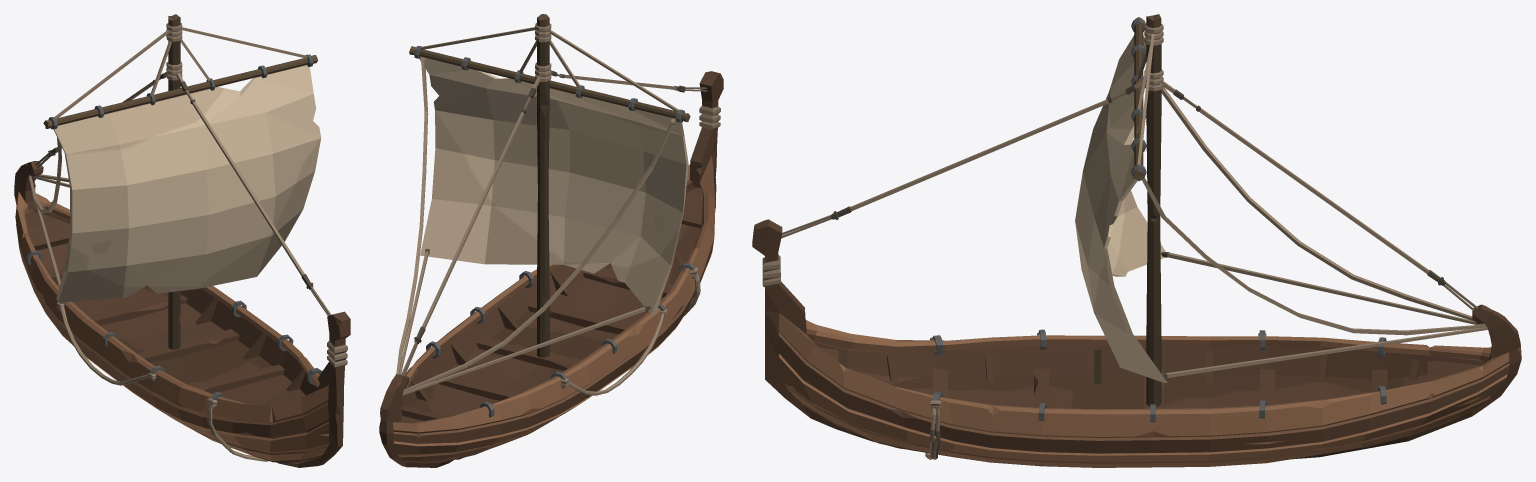
Rendered from SM_Veh_Boat_Large_01.fbx.
The picture shows the model from 3 angles, left to right: view 1: azimuth 30°, elevation 25°; view 2: azimuth 150°, elevation 25°; view 3: azimuth 270°, elevation 25°; orthographic projection. The views are drawn at different scales.
Parts seen in each view (by area): view 1: SM_Veh_Boat_Large_01; view 2: SM_Veh_Boat_Large_01; view 3: SM_Veh_Boat_Large_01.
Boxes of the visible parts, box(x1,y1,x2,y2) form: SM_Veh_Boat_Large_01: box(14, 14, 350, 467); SM_Veh_Boat_Large_01: box(379, 14, 723, 467); SM_Veh_Boat_Large_01: box(752, 14, 1521, 467).
Bounding box in the file's own units: 702 × 943 × 1474.
